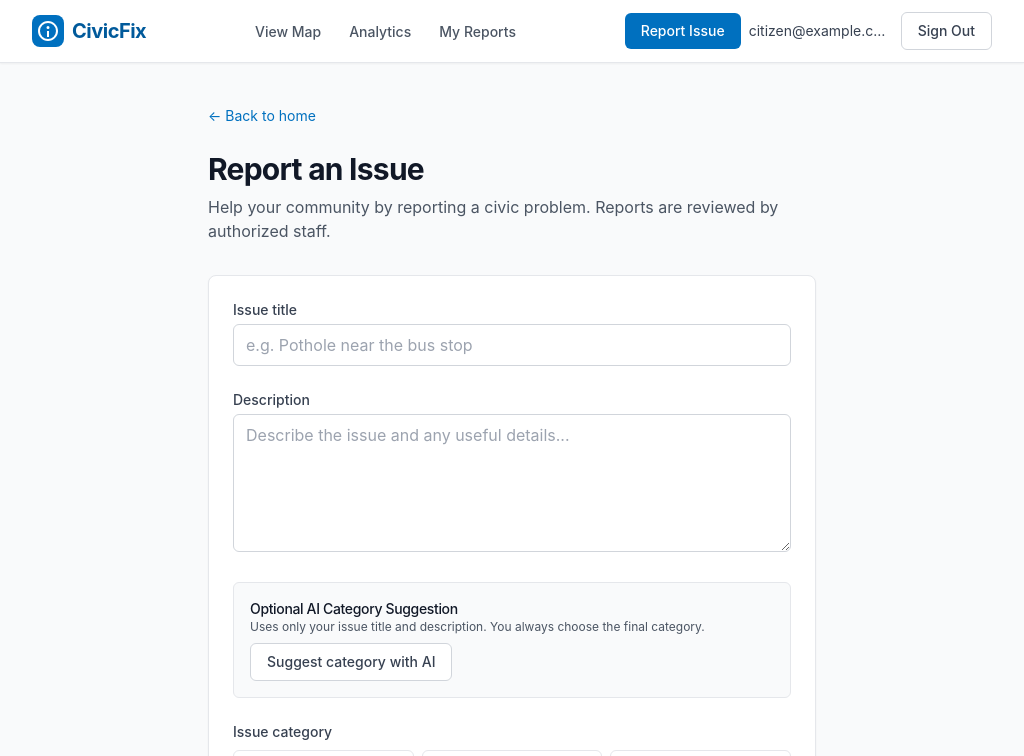
Test: NewReportPage with optional AI classification (M5) › shows an accessible validation message if AI suggestion is requested before entering enough text
Click the button "Suggest category with AI". click: (351, 662)
box: [250, 643, 452, 681]
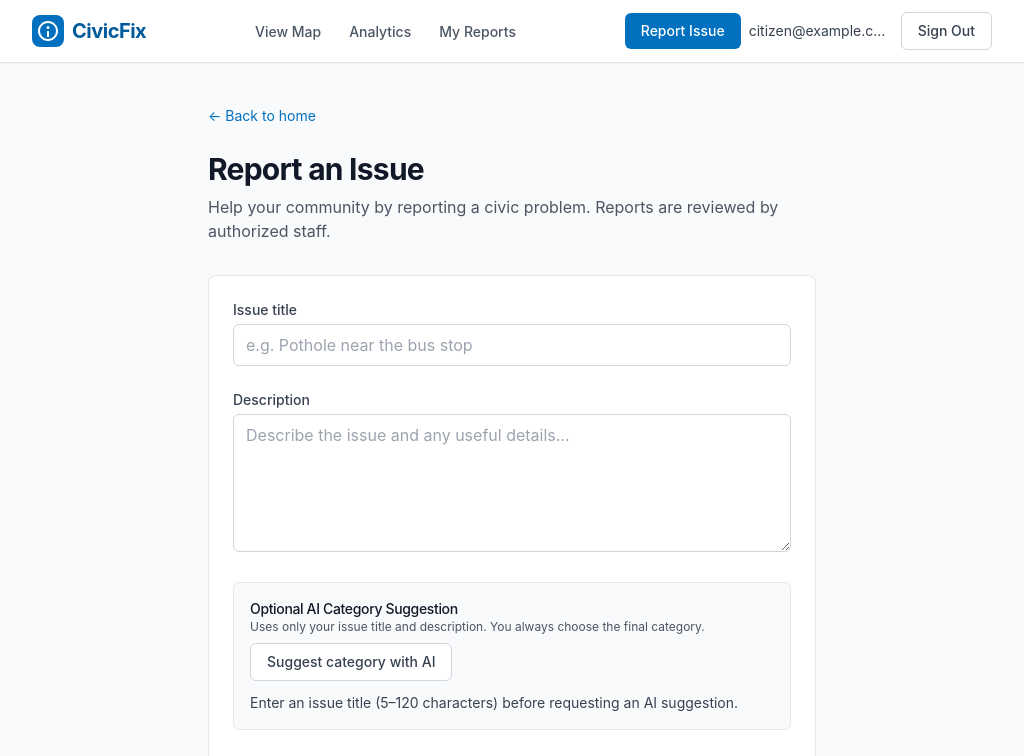
Result: the text "Enter an issue title (5–120 characters) before requesting an AI suggestion." is shown at [250, 693, 774, 713]
